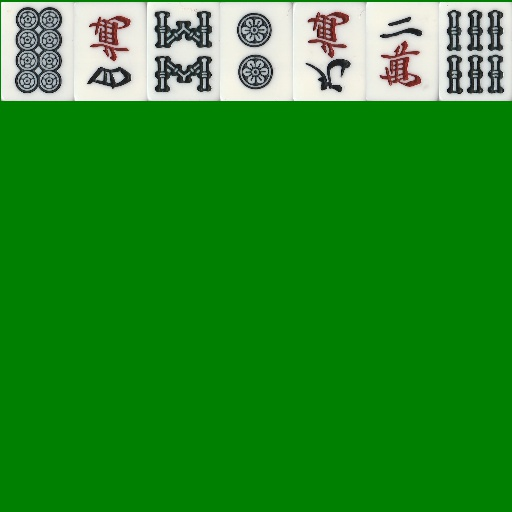2m: (366, 2, 439, 101)
2p: (220, 2, 293, 101)
4m: (74, 2, 147, 101)
6s: (439, 2, 512, 101)
8p: (1, 2, 74, 101)
8s: (147, 2, 220, 101)
9m: (293, 2, 366, 101)
